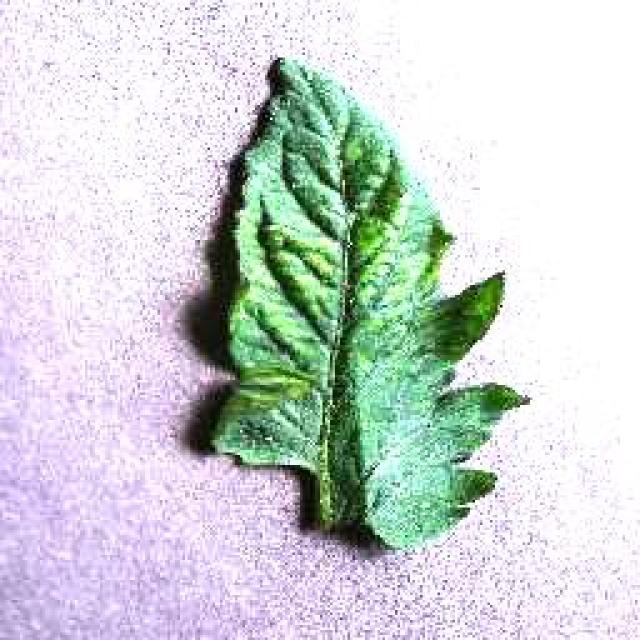Tomato___Tomato_mosaic_virus: (212, 58, 525, 548)
